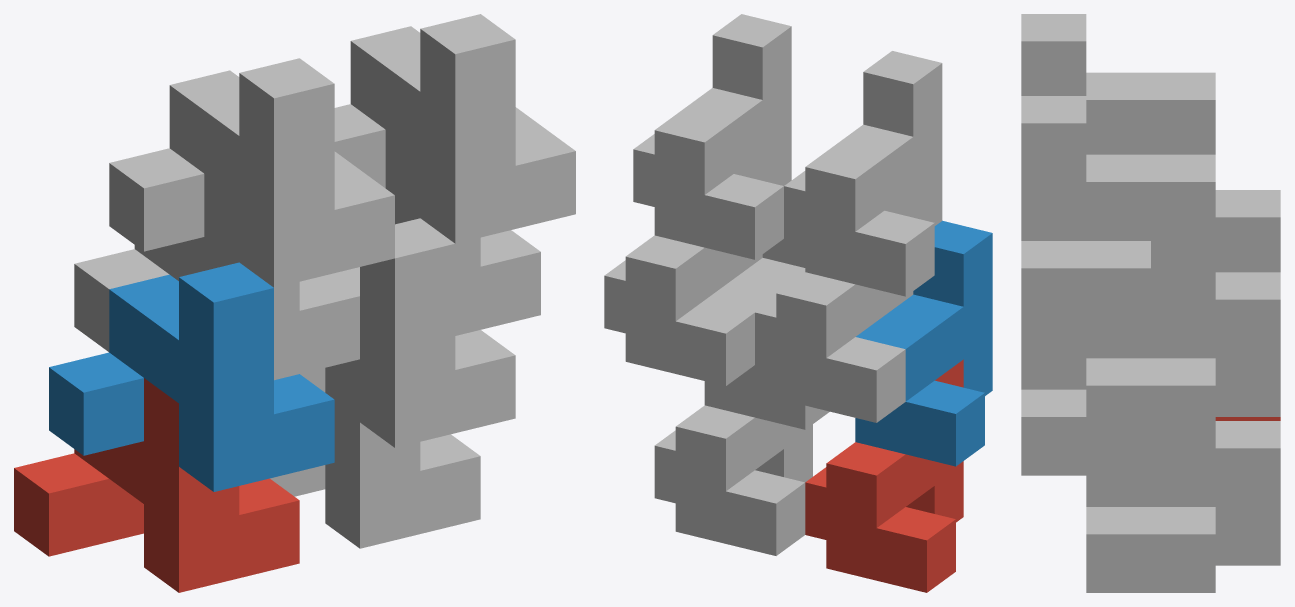
File: tiling.obj
3 renders of one model, left to right at view 1: azimuth 30°, elevation 25°; view 2: azimuth 150°, elevation 25°; view 3: azimuth 270°, elevation 25°, orthographic. The views are drawn at different scales.
Parts seen in each view (by area): view 1: copy_1_domain_4, copy_1_domain_2, copy_1_domain_8, copy_1_domain_1, copy_1_domain_6, copy_1_domain_5, copy_1_domain_3, copy_1_domain_7; view 2: copy_1_domain_4, copy_1_domain_8, copy_1_domain_2, copy_1_domain_1, copy_1_domain_5, copy_1_domain_7, copy_1_domain_3, copy_1_domain_6; view 3: copy_1_domain_8, copy_1_domain_7, copy_1_domain_5, copy_1_domain_4, copy_1_domain_6, copy_1_domain_3.
Part boxes in pixels (x1,y1,x2,y2): copy_1_domain_4: (109, 58, 394, 287); copy_1_domain_2: (49, 262, 334, 491); copy_1_domain_8: (334, 14, 575, 243); copy_1_domain_1: (14, 378, 299, 592); copy_1_domain_6: (300, 218, 515, 447); copy_1_domain_5: (270, 359, 480, 548); copy_1_domain_3: (74, 174, 359, 380); copy_1_domain_7: (385, 130, 540, 335); copy_1_domain_4: (784, 51, 942, 296); copy_1_domain_8: (633, 14, 791, 259); copy_1_domain_2: (855, 220, 992, 466); copy_1_domain_1: (805, 359, 963, 592); copy_1_domain_5: (654, 405, 812, 555); copy_1_domain_7: (604, 153, 762, 385); copy_1_domain_3: (755, 190, 913, 422); copy_1_domain_6: (704, 238, 829, 429); copy_1_domain_8: (1021, 96, 1215, 326); copy_1_domain_7: (1086, 272, 1280, 444); copy_1_domain_5: (1086, 421, 1280, 592); copy_1_domain_4: (1021, 14, 1215, 154); copy_1_domain_6: (1021, 327, 1215, 475); copy_1_domain_3: (1215, 190, 1280, 272).
Bounding box in the file's own units: 7 × 8 × 4.
